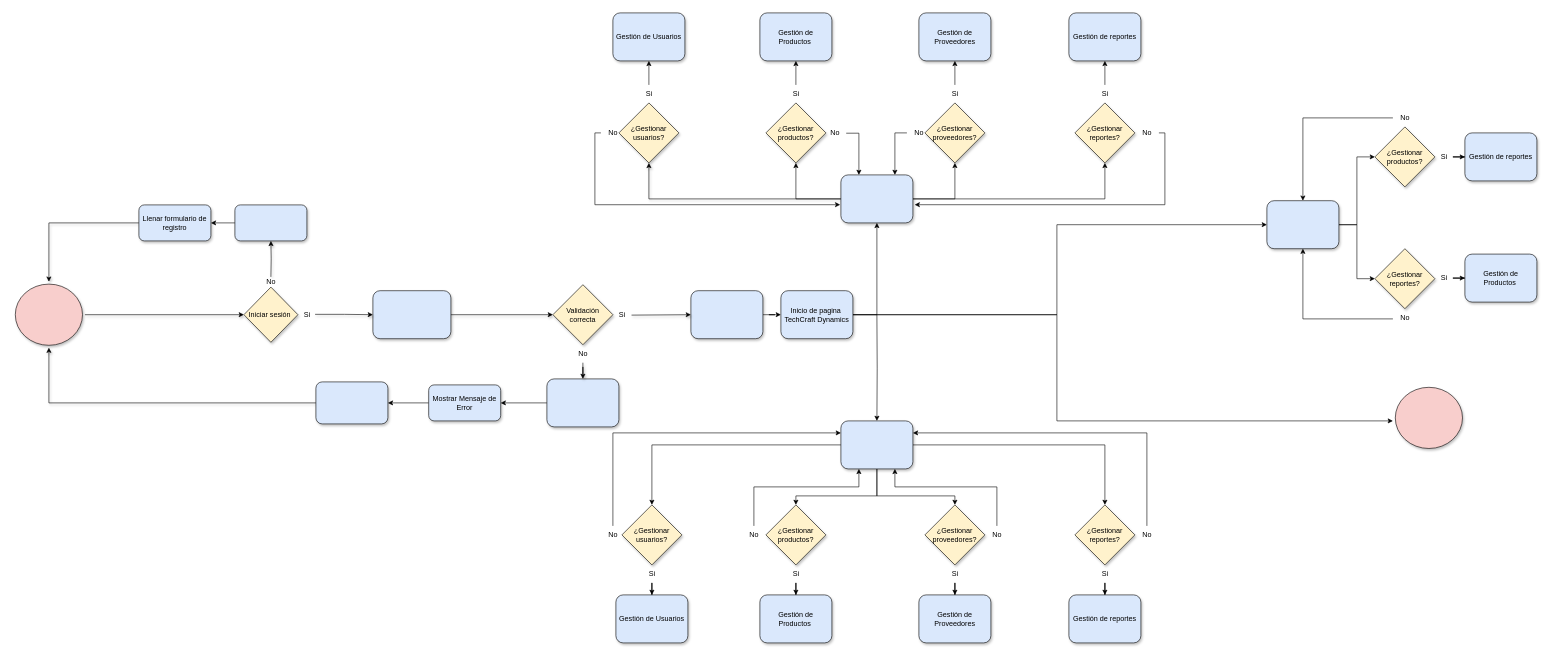
Image size: 1551x658. Some labels were removed from this diagram. Here are the shapes that lost their labels. From the top down, the centre of each, then its label:
At (877,199): "Administrador".
At (271,223): "Registrarse o crear cuenta".
At (1303,225): "Personal".
At (49,315): "Ingreso al sistema".
At (412,315): "Validación de inicio de sesión".
At (727,315): "Acceso Permitido".
At (352,403): "Llenar formulario para recuperar cuenta".
At (583,403): "Acceso Denegado".
At (1429,418): "Fin del sistema".
At (877,445): "Supervisor".
